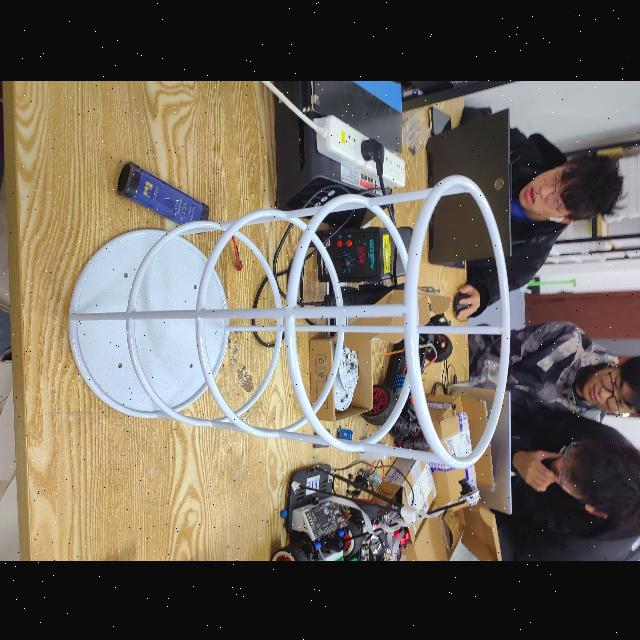S: (66, 166, 516, 470)
